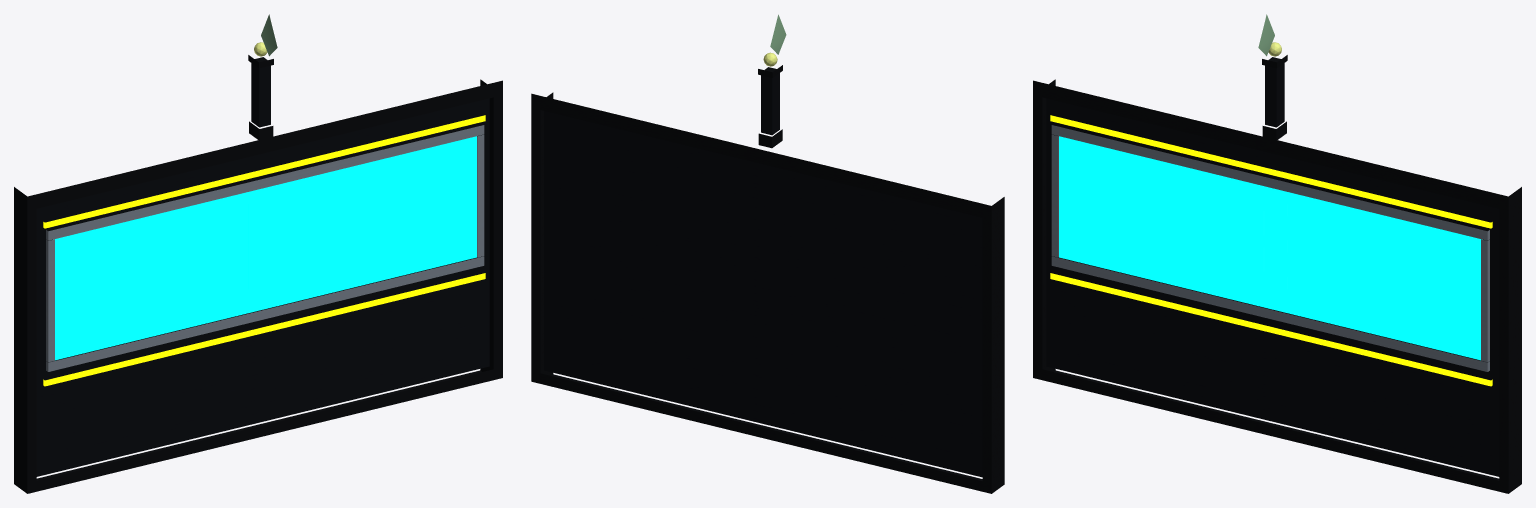
The model's file is v1_court_backdrop.glb.
3 renders of one model, left to right at view 1: azimuth 30°, elevation 25°; view 2: azimuth 150°, elevation 25°; view 3: azimuth 330°, elevation 25°, orthographic. The views are drawn at different scales.
Visible parts, largest first — view 1: Wall_Core, Screen_Band, Wall_Frame, Screen_Bezel, Court_Line_LED, Wayfinding_Glyphs, Blade_Core, Blade; view 2: Wall_Core, Wall_Frame, Blade_Core; view 3: Wall_Core, Screen_Band, Wall_Frame, Screen_Bezel, Court_Line_LED, Wayfinding_Glyphs, Blade_Core, Blade.
Part boxes in pixels (left/top/right/bottom): Wall_Core: left=36, top=98, right=489, bottom=476; Screen_Band: left=53, top=136, right=476, bottom=360; Wall_Frame: left=14, top=79, right=502, bottom=493; Screen_Bezel: left=46, top=125, right=484, bottom=371; Court_Line_LED: left=43, top=115, right=485, bottom=386; Wayfinding_Glyphs: left=248, top=196, right=283, bottom=289; Blade_Core: left=251, top=63, right=270, bottom=127; Blade: left=248, top=55, right=273, bottom=140; Wall_Core: left=544, top=111, right=982, bottom=477; Wall_Frame: left=531, top=92, right=1004, bottom=493; Blade_Core: left=761, top=73, right=779, bottom=135; Wall_Core: left=1046, top=98, right=1499, bottom=476; Screen_Band: left=1059, top=136, right=1482, bottom=360; Wall_Frame: left=1033, top=79, right=1521, bottom=493; Screen_Bezel: left=1051, top=125, right=1489, bottom=371; Court_Line_LED: left=1050, top=115, right=1492, bottom=386; Wayfinding_Glyphs: left=1252, top=196, right=1287, bottom=289; Blade_Core: left=1265, top=63, right=1284, bottom=127; Blade: left=1262, top=55, right=1287, bottom=140.
Size of what is drawn, in the model's own units: 4.1 by 3.5 by 0.385.
7 materials, 3 textured.
